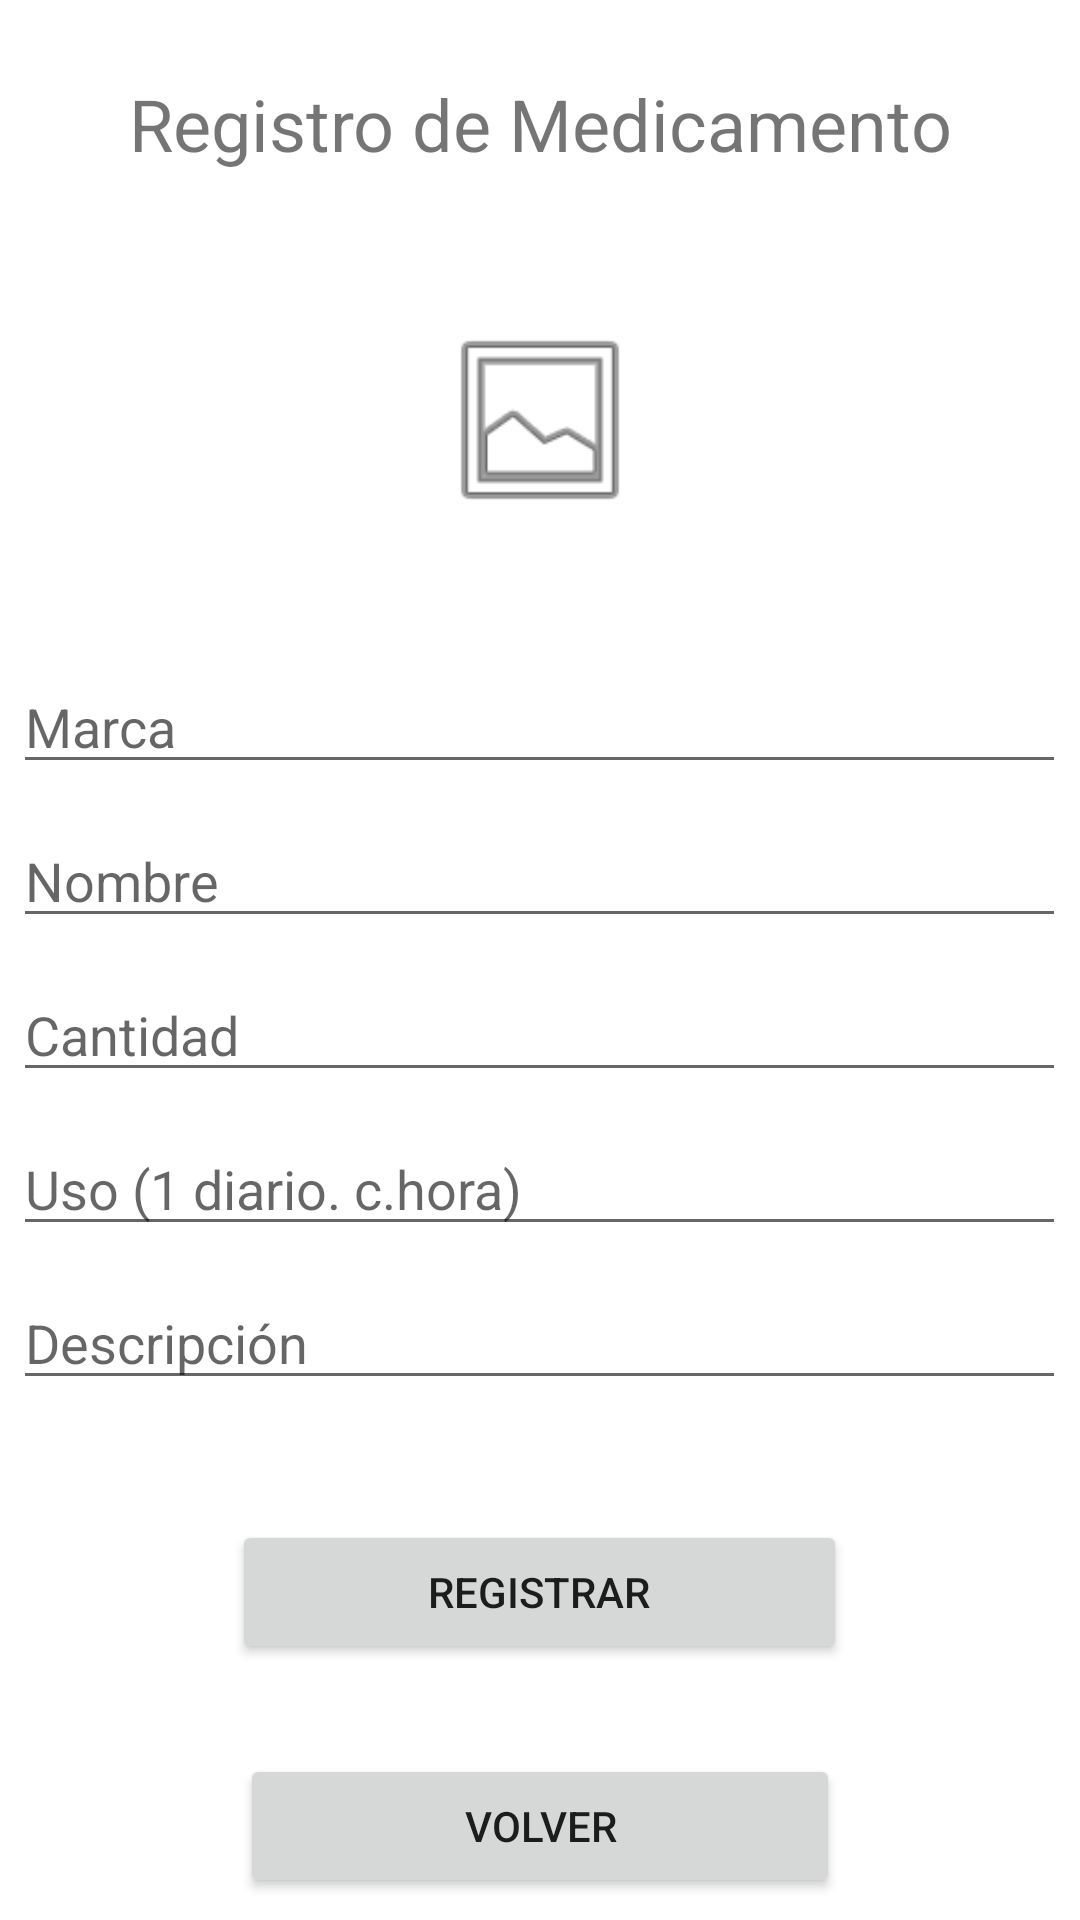

Screen size 1080 x 1920. Icon name, then its box in pixels as (left=x1, top=y1, right=x2, bottom=y2):
gallery: (left=461, top=341, right=619, bottom=499)
